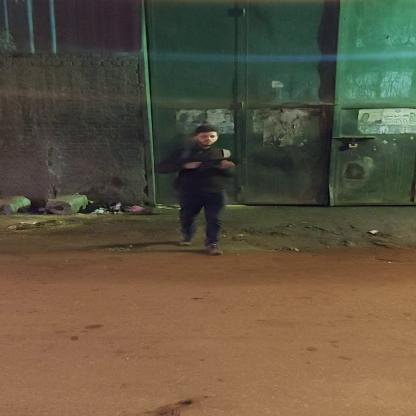long weapon: (154, 150, 239, 178)
